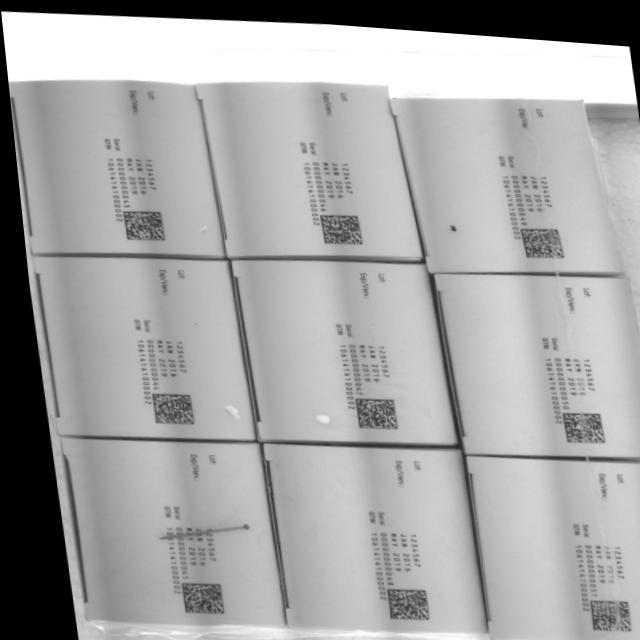datamatrix: (514, 215, 562, 254), (313, 206, 361, 245), (345, 389, 393, 428), (166, 578, 214, 617), (141, 388, 189, 427), (115, 205, 163, 244), (552, 403, 600, 441), (574, 589, 622, 627), (370, 580, 418, 618)
